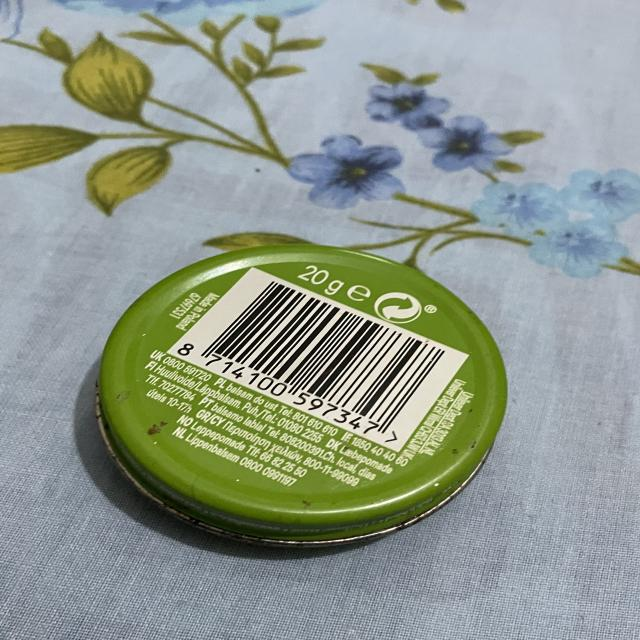lip balm: (72, 221, 536, 565)
